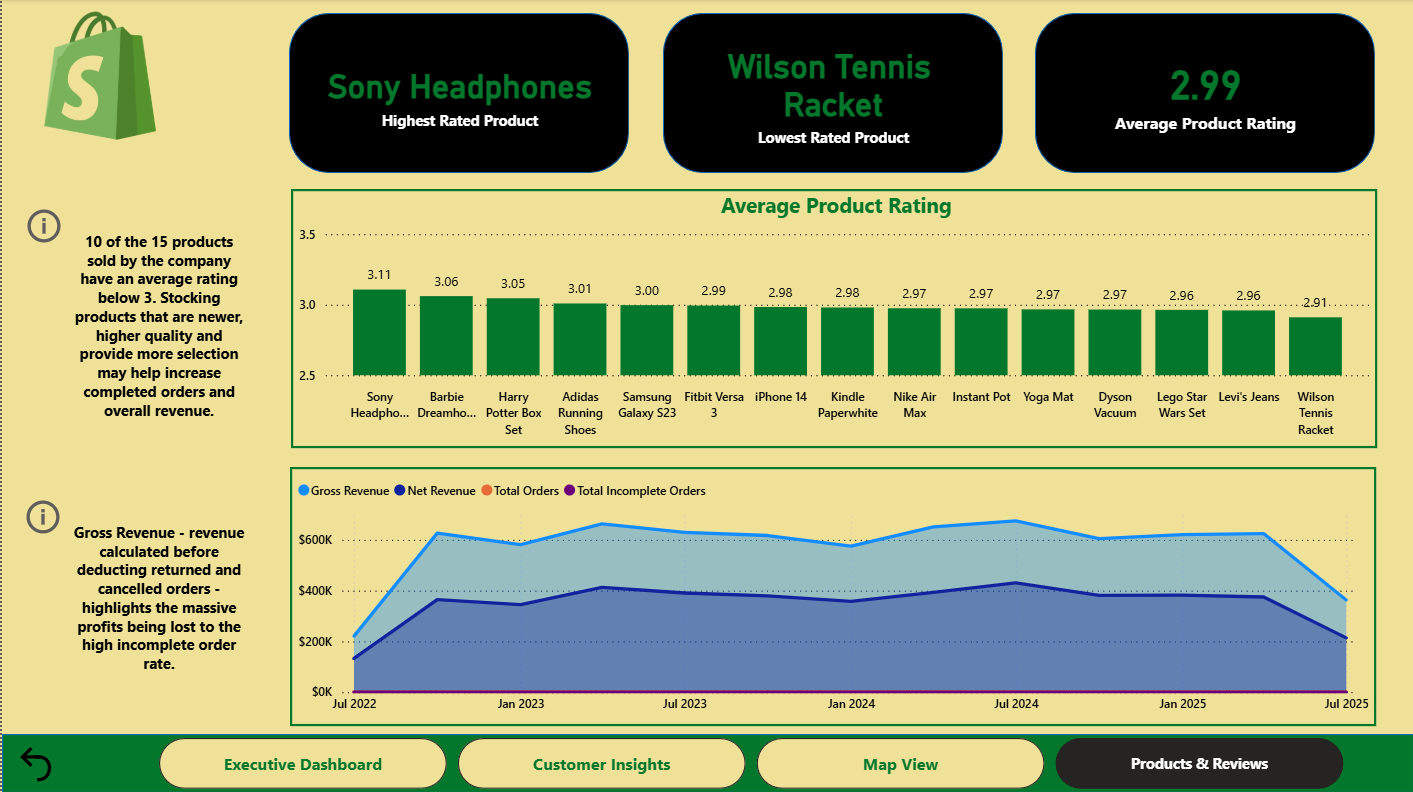

Layout of this report page (visuals, bound fields, positions):
{"tool":"powerbi","page":{"name":"Products & Reviews","canvas":[1280,720],"ordinal":3},"visuals":[{"type":"shape","box":[936.7,12.7,308.3,145.1],"z":0},{"type":"shape","box":[599.4,12.7,308.3,145.1],"z":1000},{"type":"shape","box":[260.3,12.7,308.3,145.1],"z":2000},{"type":"card","fields":{"Values":["Min(Products_Table.PRODUCT NAME)"]},"box":[276.6,26.3,277.5,118.8],"z":5000},{"type":"card","fields":{"Values":["Measures Table.Average Product Rating"]},"box":[952.1,23.6,278.4,121.5],"z":6000},{"type":"card","fields":{"Values":["Min(Products_Table.PRODUCT NAME)"]},"box":[614.8,23.6,278.4,121.5],"z":7000},{"type":"columnChart","title":"Average Product Rating","fields":{"Category":["Products_Table.PRODUCT NAME"],"Y":["Measures Table.Average Product Rating"]},"box":[262.1,172.3,984.8,234.9],"z":8000},{"type":"areaChart","fields":{"Y":["Measures Table.Gross Revenue","Measures Table.Net Revenue","Measures Table.Total Orders","Measures Table.Total Incomplete Orders"],"Category":["Calendar Lookup.Start of Month.Variation.Date Hierarchy.Year","Calendar Lookup.Start of Month.Variation.Date Hierarchy.Quarter"]},"box":[261.2,424.4,984.8,234.9],"z":9000},{"type":"actionButton","box":[17.2,449.8,40.8,39.9],"z":10000},{"type":"actionButton","box":[18.1,185.9,39.9,39.9],"z":11000},{"type":"textbox","box":[58,469.7,168.7,149.6],"z":12000},{"type":"textbox","box":[58,205.8,168.7,185],"z":13000},{"type":"image","box":[0,4.5,177.7,129.7],"z":13001},{"type":"shape","box":[0,666.5,1280.4,53.5],"z":13002},{"type":"actionButton","box":[10,672.8,47.2,41.7],"z":13003},{"type":"bookmarkNavigator","box":[142.4,670.1,1074.6,46.2],"z":13004}]}

Visuals, with their boxes in screenshot pixels (x1, y1, x2, y2), scaled from the page's 1280x720 canvas onto the 1413x792 screenshot:
shape: x1=1034 y1=14 x2=1374 y2=174
shape: x1=662 y1=14 x2=1002 y2=174
shape: x1=287 y1=14 x2=628 y2=174
card - Min(Products_Table.PRODUCT NAME): x1=305 y1=29 x2=612 y2=160
card - Measures Table.Average Product Rating: x1=1051 y1=26 x2=1358 y2=160
card - Min(Products_Table.PRODUCT NAME): x1=679 y1=26 x2=986 y2=160
"Average Product Rating" columnChart: x1=289 y1=190 x2=1376 y2=448
areaChart - Measures Table.Gross Revenue x Measures Table.Net Revenue: x1=288 y1=467 x2=1375 y2=725
actionButton: x1=19 y1=495 x2=64 y2=539
actionButton: x1=20 y1=204 x2=64 y2=248
textbox: x1=64 y1=517 x2=250 y2=681
textbox: x1=64 y1=226 x2=250 y2=430
image: x1=0 y1=5 x2=196 y2=148
shape: x1=0 y1=733 x2=1412 y2=791
actionButton: x1=11 y1=740 x2=63 y2=786
bookmarkNavigator: x1=157 y1=737 x2=1343 y2=788
